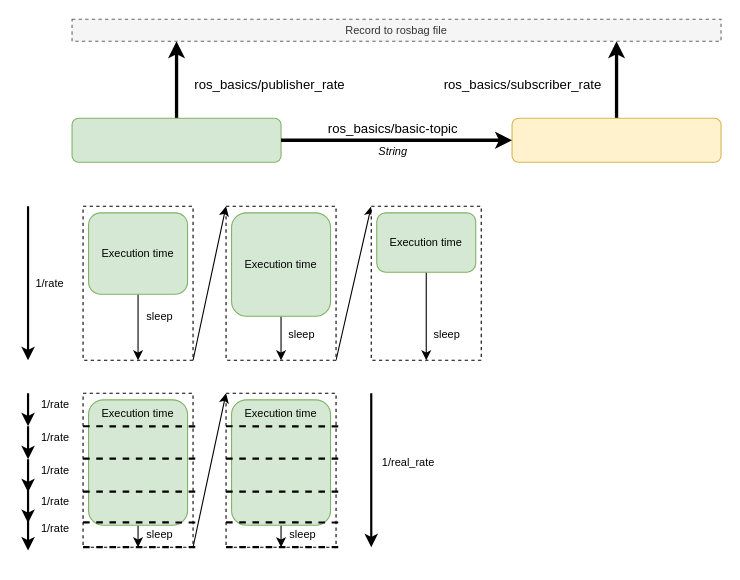
The diagram is 740 pixels wide and 580 high, and some of its shapes have lost their labels. The box of each missing label's shape, as (x1, y1, x2, y2) in pixels:
CPP/Python Pusblisher: (71, 117, 281, 162)
CPP/Python subscriber: (511, 117, 721, 162)
